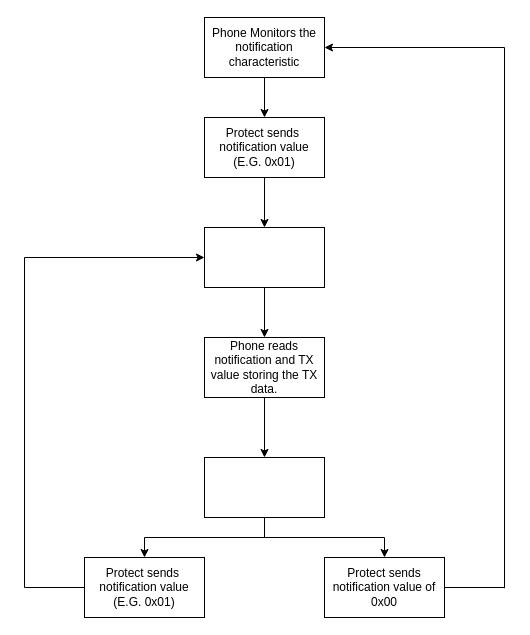
Image size: 530x635. Some labels were removed from this diagram. The box of each missing label's shape, as (x1, y1, x2, y2) in pixels:
Phone changes notification characteristic to 0xFF: (204, 456, 324, 518)
Protect sends value to be transferred via TX characteristic: (204, 226, 324, 288)
